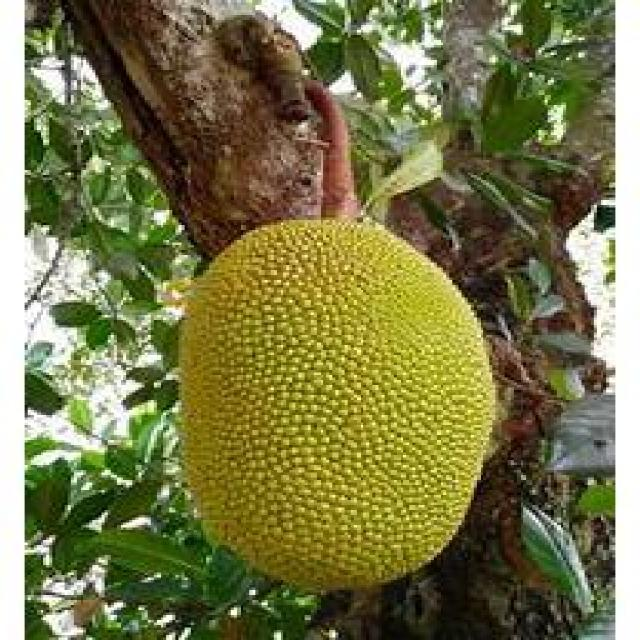fruit: (80, 160, 492, 588)
